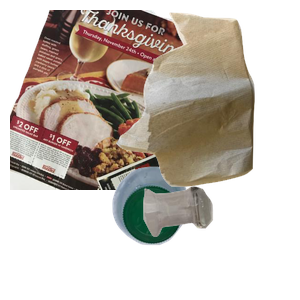glass: (141, 184, 300, 300)
paper: (10, 10, 224, 190)
plastic: (110, 164, 300, 300)
trash: (114, 10, 300, 189)
